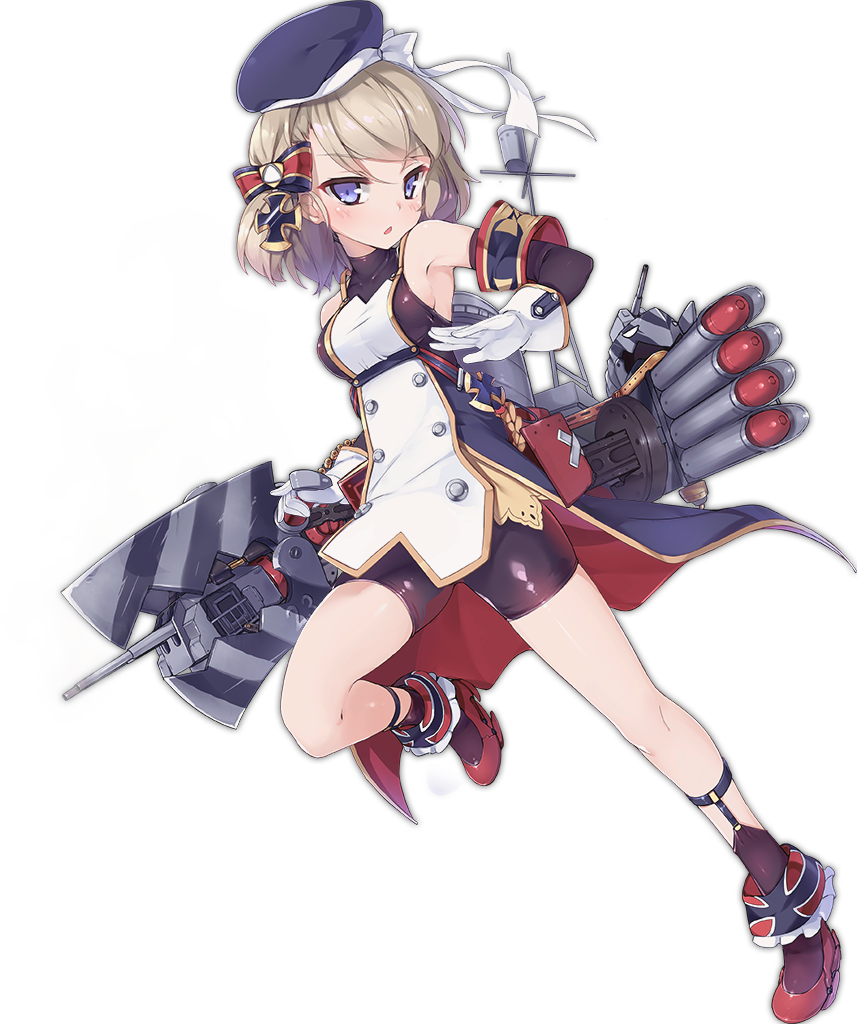person: (34, 1, 857, 932)
